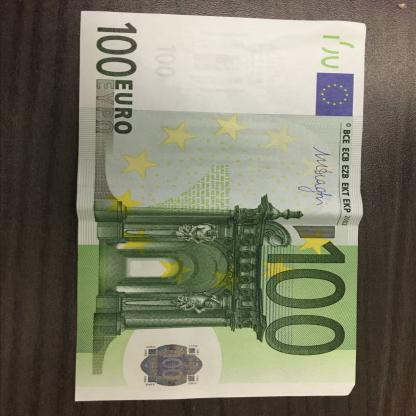euro_banknote: (25, 66, 416, 352)
